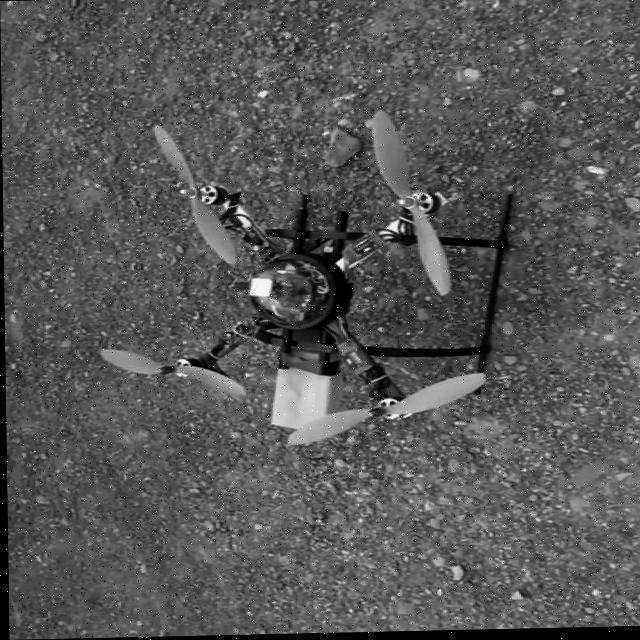drone: (90, 107, 520, 451)
